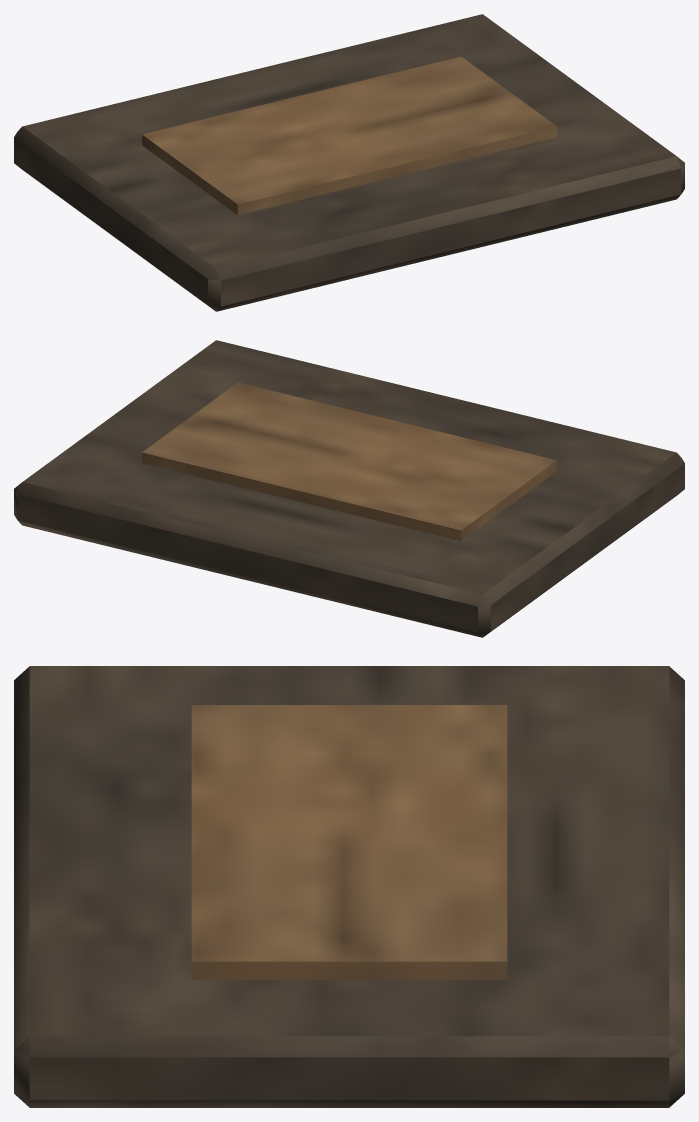
Rendered from SM_SupplyCrate_Small03_Lid.fbx.
The picture shows the model from 3 angles, top to bottom: view 1: azimuth 30°, elevation 25°; view 2: azimuth 150°, elevation 25°; view 3: azimuth 270°, elevation 25°; orthographic projection. The views are drawn at different scales.
Parts seen in each view (by area): view 1: SM_SupplyCrate_Small03_Lid; view 2: SM_SupplyCrate_Small03_Lid; view 3: SM_SupplyCrate_Small03_Lid.
Part boxes in pixels (<box>): SM_SupplyCrate_Small03_Lid: <box>14,14,684,311</box>; SM_SupplyCrate_Small03_Lid: <box>14,340,684,637</box>; SM_SupplyCrate_Small03_Lid: <box>14,666,684,1107</box>.
Size of the model in its own units: 2.3 by 0.25 by 1.7.
1 material, 1 textured.
